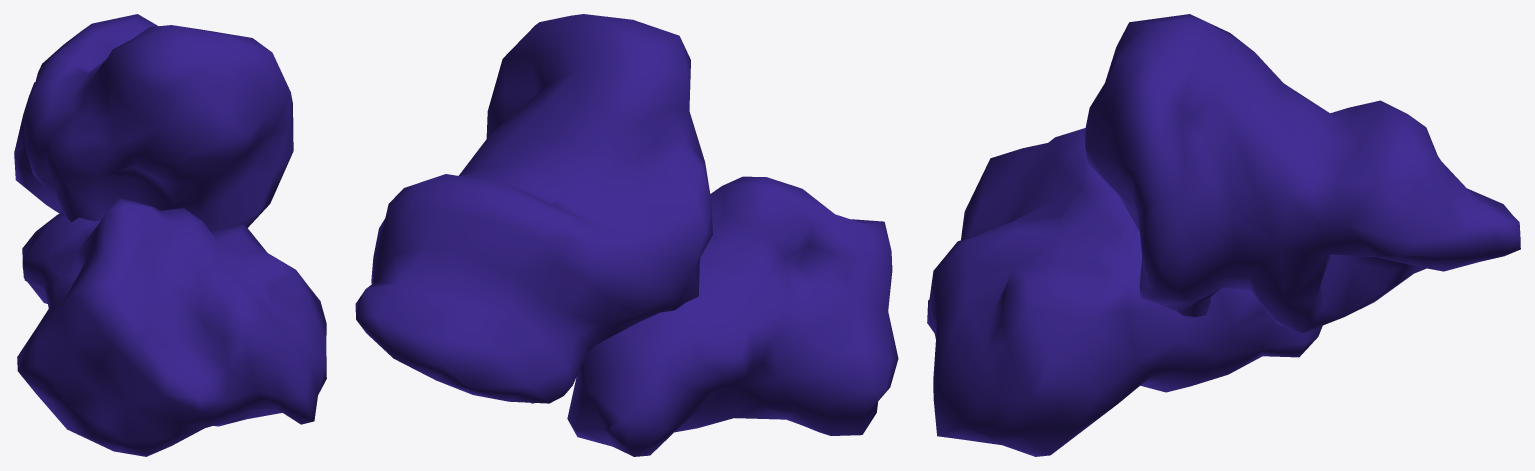
The model's file is Nuc_iTat.fbx.
3 views of the same model, side by side, from view 1: azimuth 30°, elevation 25°; view 2: azimuth 150°, elevation 25°; view 3: azimuth 270°, elevation 25° (orthographic). The views are drawn at different scales.
Parts seen in each view (by area): view 1: CoarseMS_1JFW; view 2: CoarseMS_1JFW; view 3: CoarseMS_1JFW.
Boxes of the visible parts, x1,y1,x2,y2 form: CoarseMS_1JFW: (14,14,326,456); CoarseMS_1JFW: (355,14,898,456); CoarseMS_1JFW: (927,14,1520,456).
Size of the model in its own units: 36.43 by 41.29 by 52.83.
